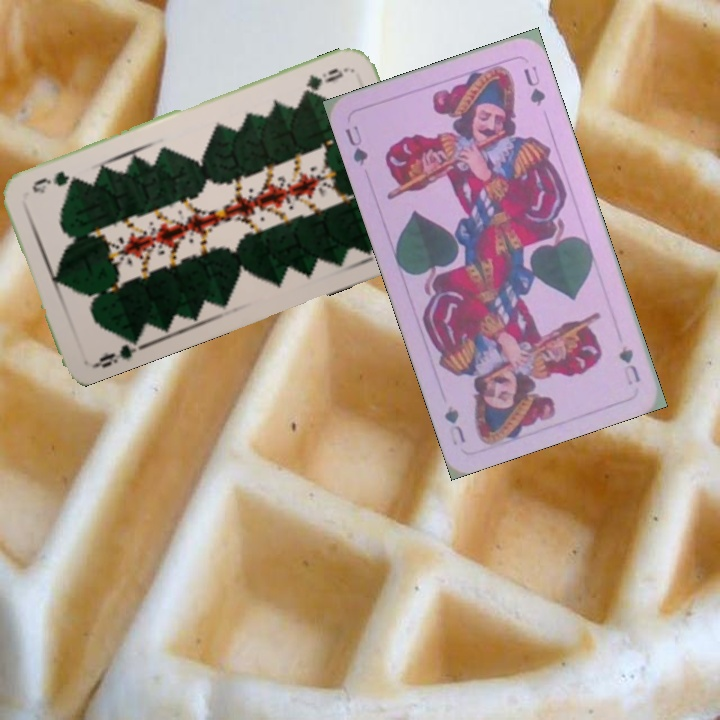G9: (88, 332, 145, 371), (297, 64, 350, 98)
GU: (340, 121, 371, 168), (614, 341, 643, 388)
